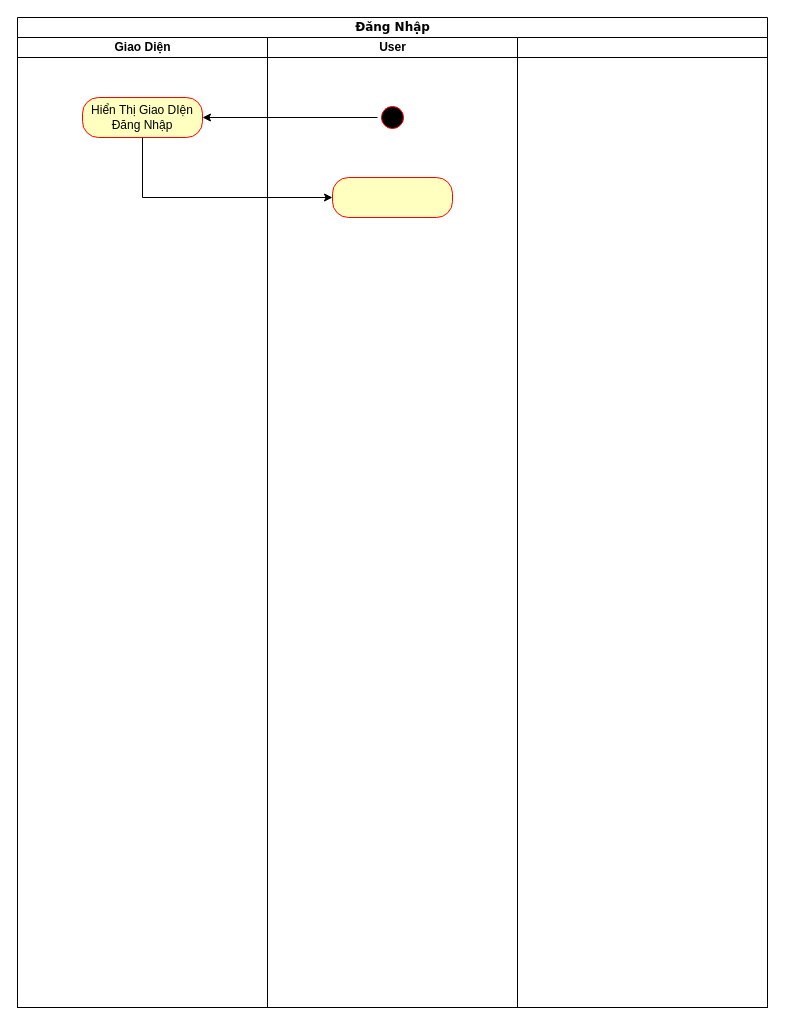
Some shapes in this 785 by 1025 pixel diagram are drawn without their labels. The centre of each missing label's shape, as x and y in pixels:
"Hệ Thống" belongs at point 642,522.
"Nhập Thông Tin Đăng Nhập" belongs at point 392,197.
